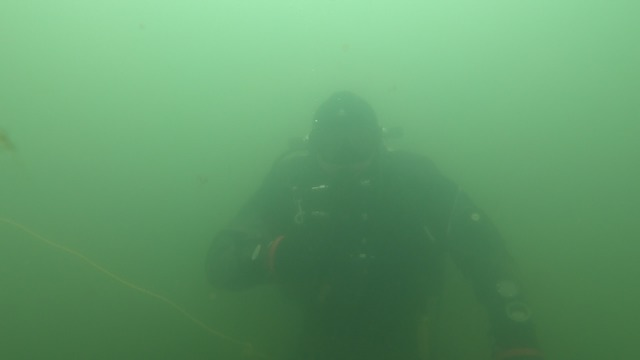Diver: (176, 54, 572, 353)
Head: (301, 86, 411, 210)
